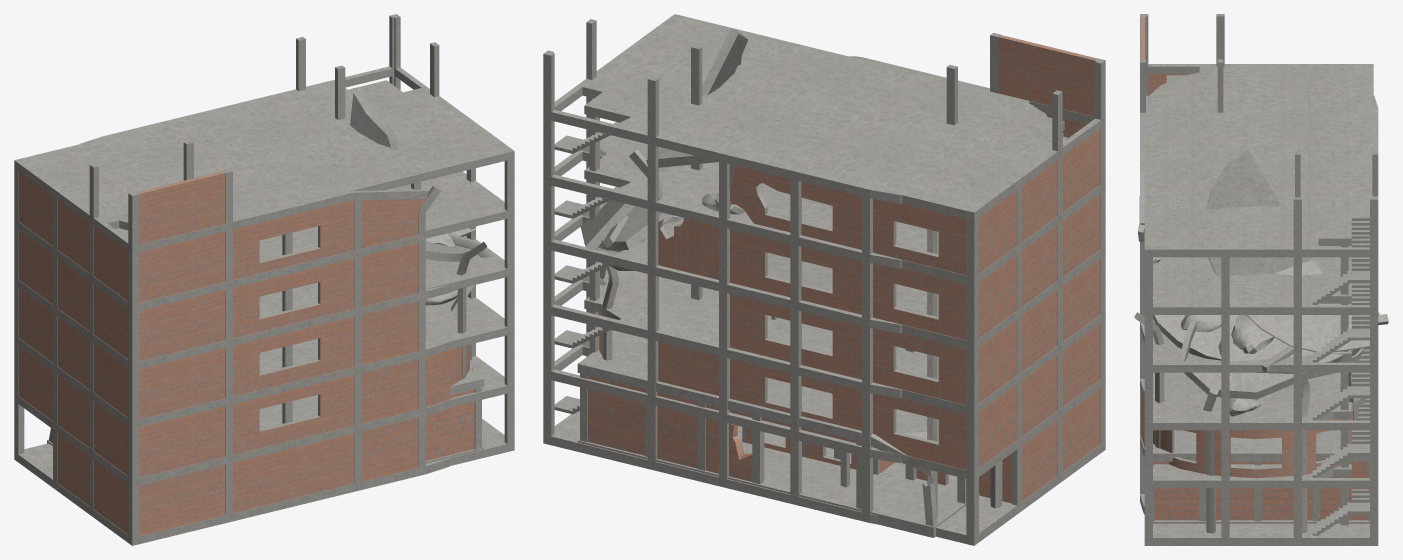
The model's file is v5site.glb.
3 views of the same model, side by side, from view 1: azimuth 30°, elevation 25°; view 2: azimuth 150°, elevation 25°; view 3: azimuth 270°, elevation 25° (orthographic). The views are drawn at different scales.
Parts seen in each view (by area): view 1: site3, site5, site2; view 2: site3, site5, site2, site1; view 3: site5, site3, site2.
Boxes of the visible parts, x1,y1,x2,y2 form: site3: (14, 87, 491, 545); site5: (55, 14, 514, 465); site2: (47, 369, 483, 463); site3: (580, 28, 1105, 545); site5: (543, 14, 1052, 524); site2: (577, 332, 979, 537); site1: (742, 427, 894, 474); site5: (1144, 66, 1378, 545); site3: (1134, 14, 1388, 533); site2: (1153, 430, 1369, 523).
Size of the model in its own units: 26.57 by 22.88 by 15.23.
Materials: 1 (1 with a texture image).
